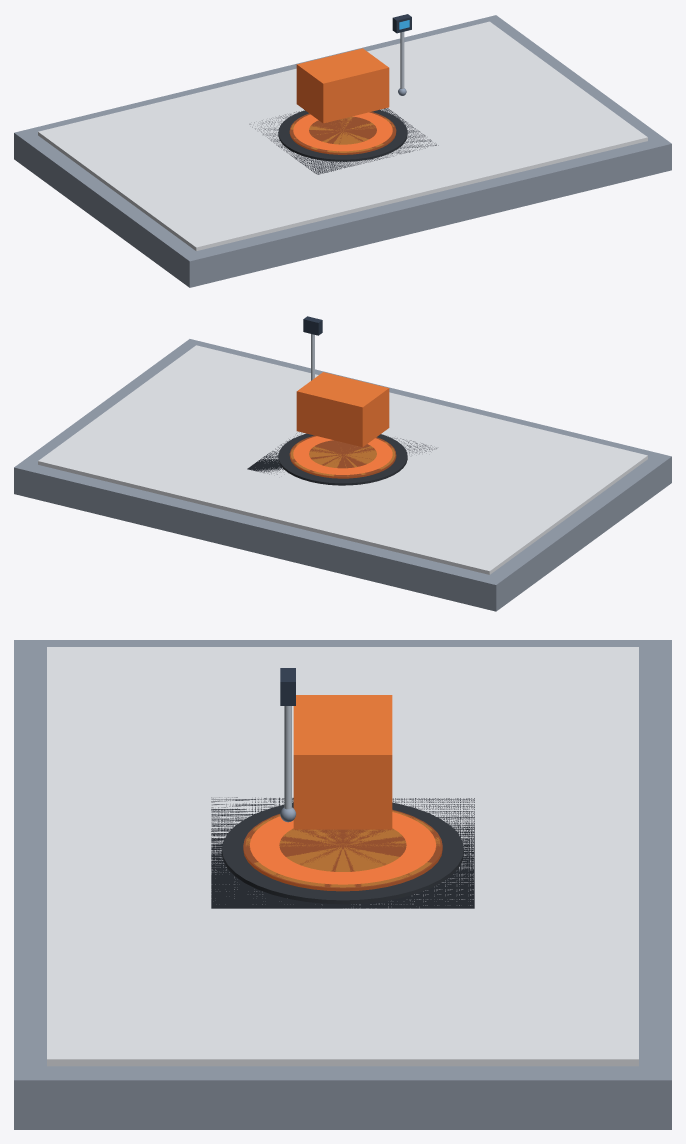
Rendered from heat-copper-ar.glb.
3 renders of one model, top to bottom at view 1: azimuth 30°, elevation 25°; view 2: azimuth 150°, elevation 25°; view 3: azimuth 270°, elevation 25°, orthographic. The views are drawn at different scales.
Visible parts, largest first — view 1: PlatformBase, HeaterAssembly, SolidBlock, TemperatureProbe, GlowHalo; view 2: PlatformBase, HeaterAssembly, SolidBlock, GlowHalo, TemperatureProbe; view 3: PlatformBase, HeaterAssembly, SolidBlock, GlowHalo, TemperatureProbe.
Boxes of the visible parts, left/top/right/bottom form: PlatformBase: left=14, top=15, right=671, bottom=287; HeaterAssembly: left=249, top=108, right=438, bottom=174; SolidBlock: left=296, top=48, right=389, bottom=123; TemperatureProbe: left=392, top=14, right=411, bottom=95; GlowHalo: left=291, top=117, right=393, bottom=152; PlatformBase: left=14, top=339, right=671, bottom=611; HeaterAssembly: left=247, top=432, right=436, bottom=485; SolidBlock: left=296, top=372, right=389, bottom=447; GlowHalo: left=291, top=442, right=394, bottom=475; TemperatureProbe: left=303, top=316, right=322, bottom=380; PlatformBase: left=14, top=640, right=671, bottom=1129; HeaterAssembly: left=211, top=797, right=474, bottom=908; SolidBlock: left=293, top=695, right=392, bottom=829; GlowHalo: left=246, top=811, right=439, bottom=887; TemperatureProbe: left=280, top=668, right=296, bottom=822.
Size of the model in its own units: 0.247 by 0.0721 by 0.156.
